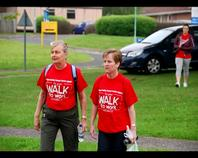stay: (170, 26, 194, 85)
